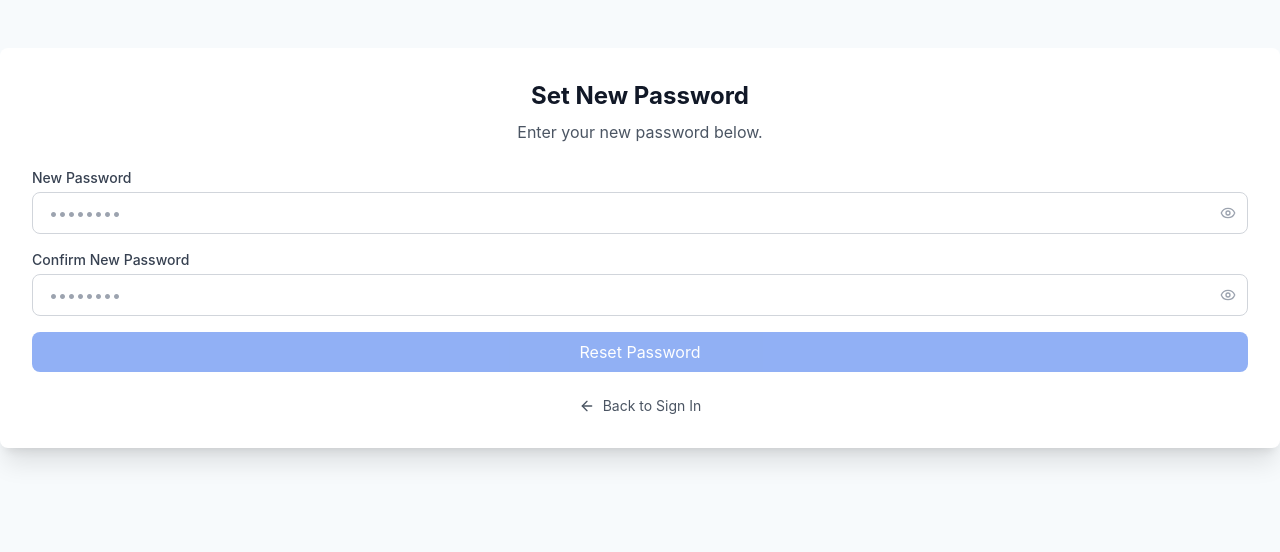
it: ResetPasswordPage › displays error message when reset fails
Step 1. Type "NewPassword123" into the password field labelled "New Password" → (640, 213), box [32,192,1248,234]
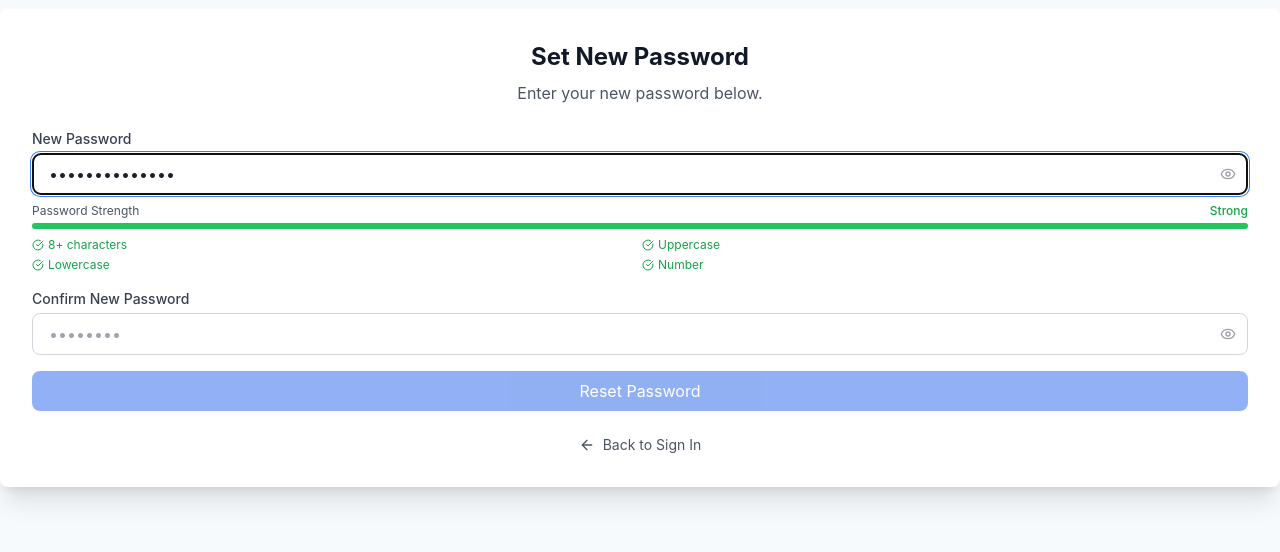
Step 2. Type "NewPassword123" into the password field labelled "Confirm New Password" → (640, 334), box [32,313,1248,355]
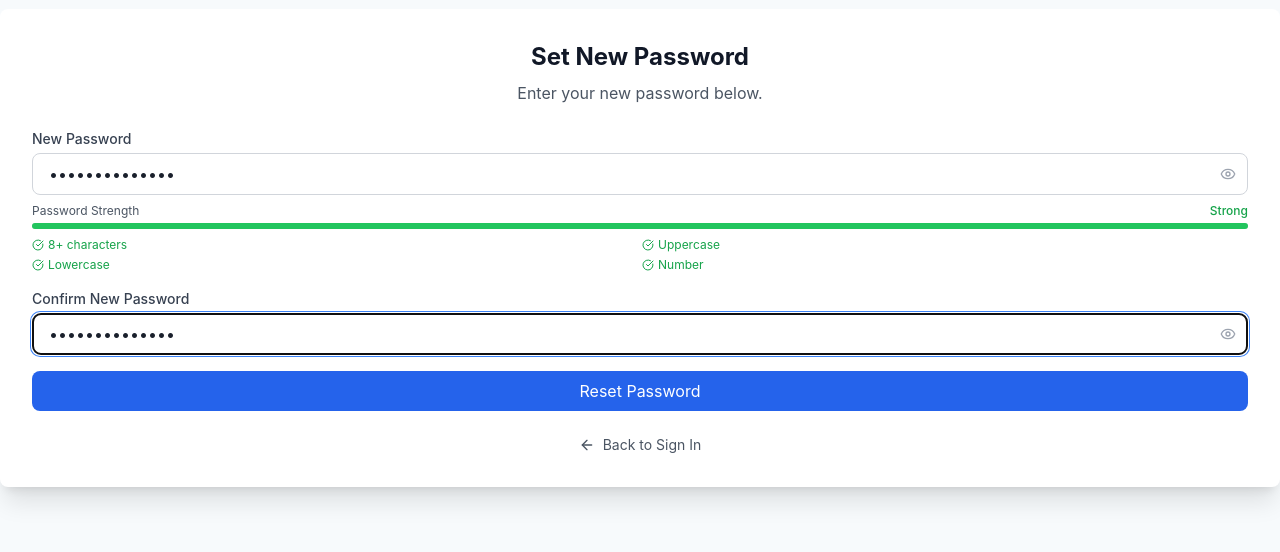
Step 3. Click the button "Reset Password" → (640, 391), box [32,371,1248,411]
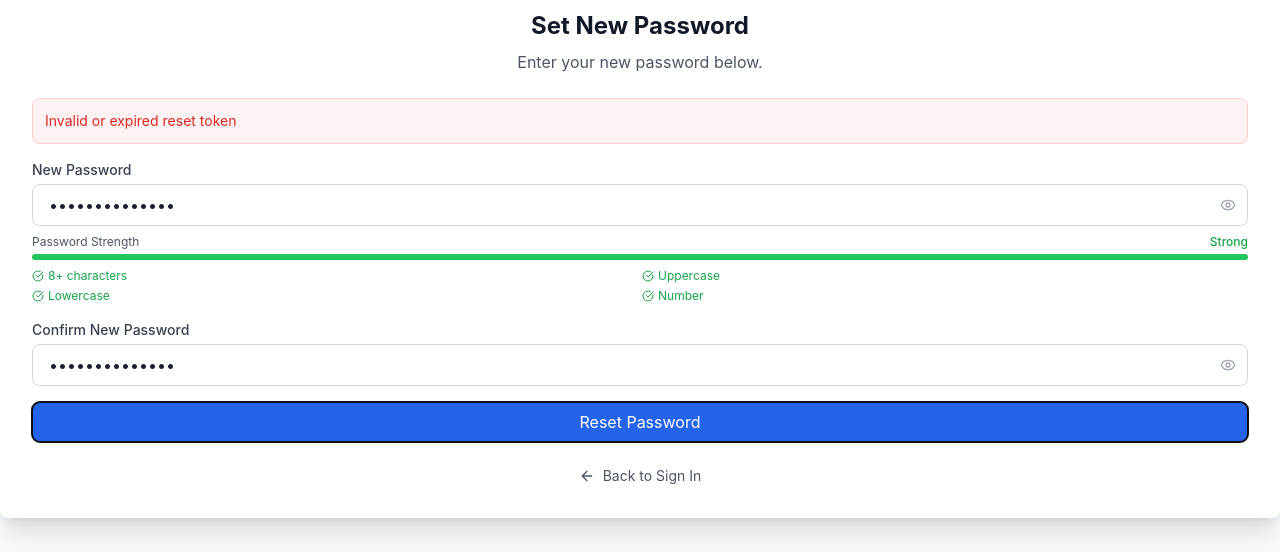
Check: the text "Invalid or expired reset token" is shown, box [45,112,236,129]
Check: the message "Invalid or expired reset token" is shown, box [32,98,1248,144]
